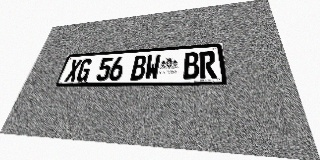5: (95, 57, 113, 81)
6: (108, 56, 125, 81)
B: (183, 52, 199, 79), (130, 55, 147, 80)
G: (75, 58, 93, 82)
R: (199, 51, 217, 79)
W: (144, 54, 161, 80)
X: (64, 59, 82, 82)
